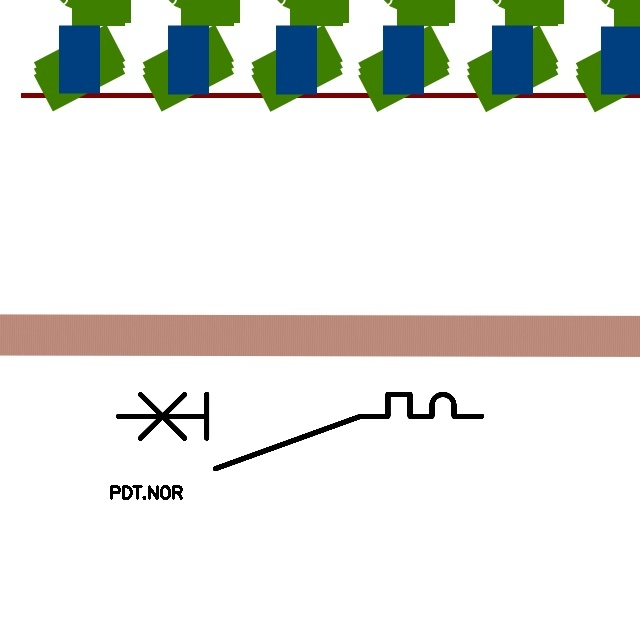interruptor_termomagnetico: (109, 385, 491, 478)
